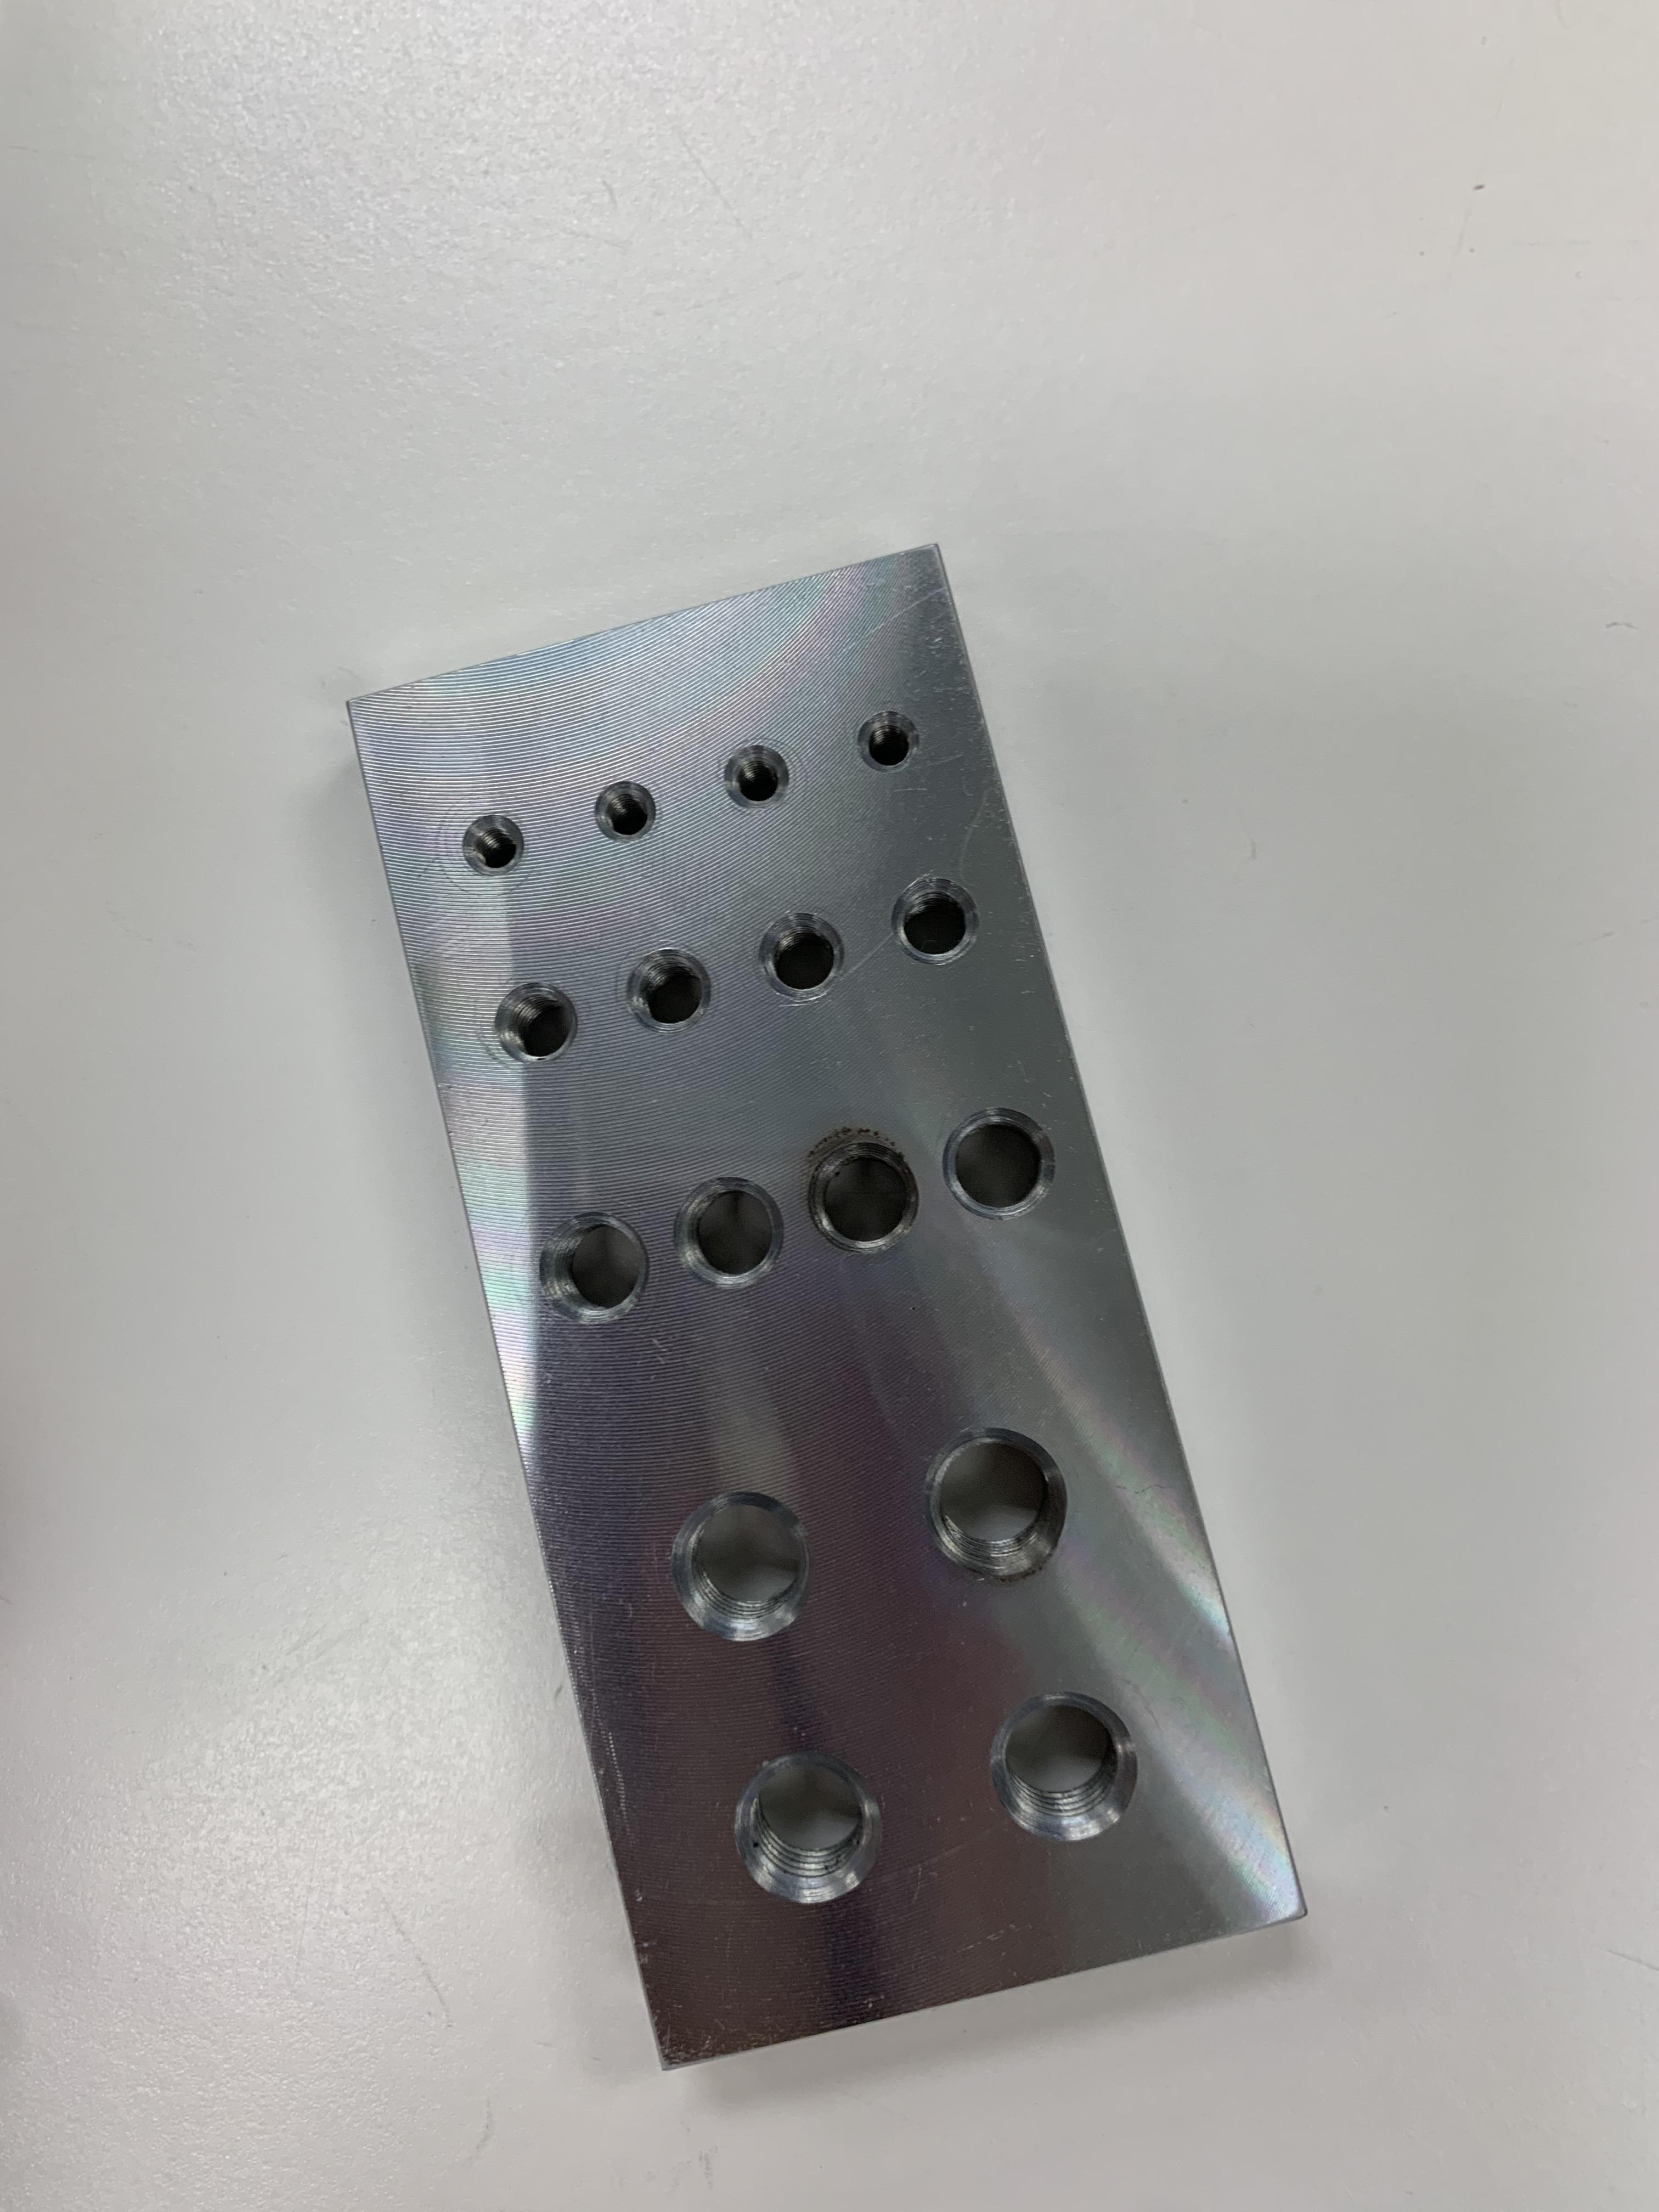hole: (913, 1397, 1112, 1601), (976, 1667, 1168, 1867), (653, 1461, 835, 1662), (720, 1742, 901, 1933), (795, 1113, 932, 1268), (528, 1191, 655, 1350), (674, 1160, 805, 1310), (938, 1099, 1058, 1235), (484, 958, 591, 1090), (889, 862, 993, 988), (622, 939, 723, 1052), (756, 897, 854, 1012), (448, 786, 535, 897), (575, 766, 671, 862), (845, 691, 934, 794), (718, 725, 803, 831)
